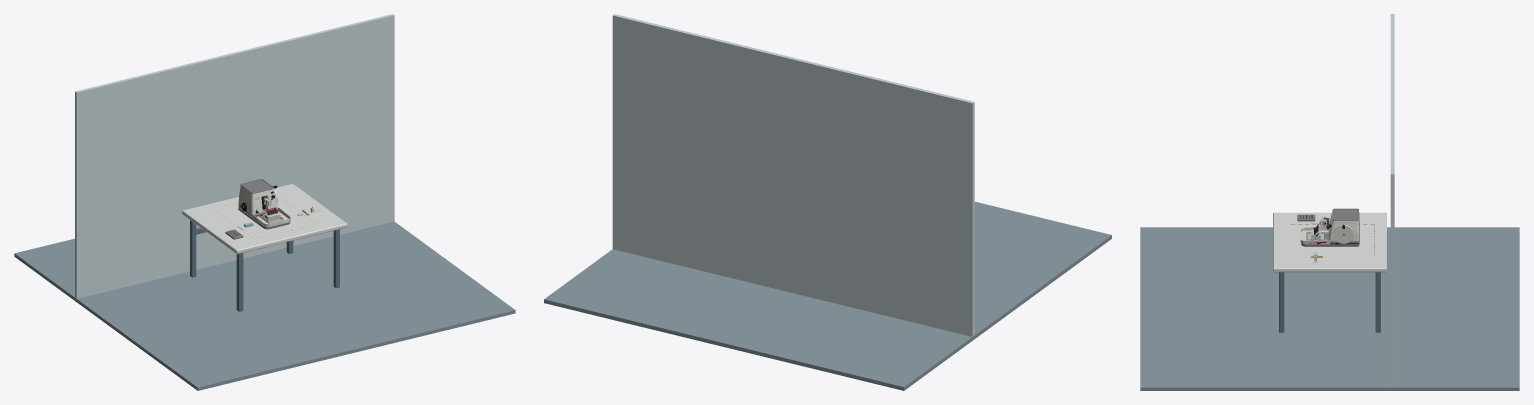
The model's file is biocut-rough.glb.
3 renders of one model, left to right at view 1: azimuth 30°, elevation 25°; view 2: azimuth 150°, elevation 25°; view 3: azimuth 270°, elevation 25°, orthographic. The views are drawn at different scales.
Visible parts, largest first — view 1: env.wall, env.floor, env.bench.top, biocut.body, env.bench.leg-0-0; view 2: env.wall, env.floor; view 3: env.floor, env.bench.top, env.wall, biocut.body, env.bench.leg-1-0, env.bench.leg-1-1, biocut.top-tray.
Boxes of the visible parts, bbox=[...] form: env.wall: bbox=[75, 14, 394, 299]; env.floor: bbox=[14, 221, 515, 390]; env.bench.top: bbox=[182, 183, 347, 254]; biocut.body: bbox=[238, 186, 277, 214]; env.bench.leg-0-0: bbox=[236, 253, 243, 311]; env.wall: bbox=[612, 14, 974, 336]; env.floor: bbox=[544, 201, 1111, 390]; env.floor: bbox=[1140, 227, 1519, 390]; env.bench.top: bbox=[1273, 212, 1386, 272]; env.wall: bbox=[1390, 14, 1394, 387]; biocut.body: bbox=[1328, 210, 1359, 240]; env.bench.leg-1-0: bbox=[1279, 272, 1284, 332]; env.bench.leg-1-1: bbox=[1375, 272, 1380, 332]; biocut.top-tray: bbox=[1332, 208, 1358, 220].
Size of the model in its own units: 4 by 2.52 by 4.
